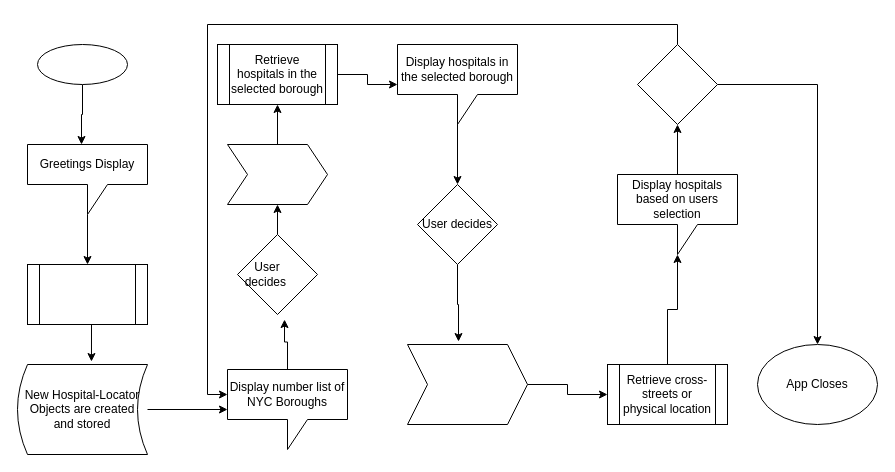
Image size: 895x472. Some labels were removed from this diagram. Here are the shapes that lost their labels. From the top down, the box of each, then its label:
(36, 44, 128, 84): App Starts
(636, 44, 718, 124): Start over / End?
(226, 144, 328, 204): User selects a borough
(26, 264, 148, 324): Get Data from NYC Open Data
(406, 344, 528, 424): User chooses cross-streets or physical locations
